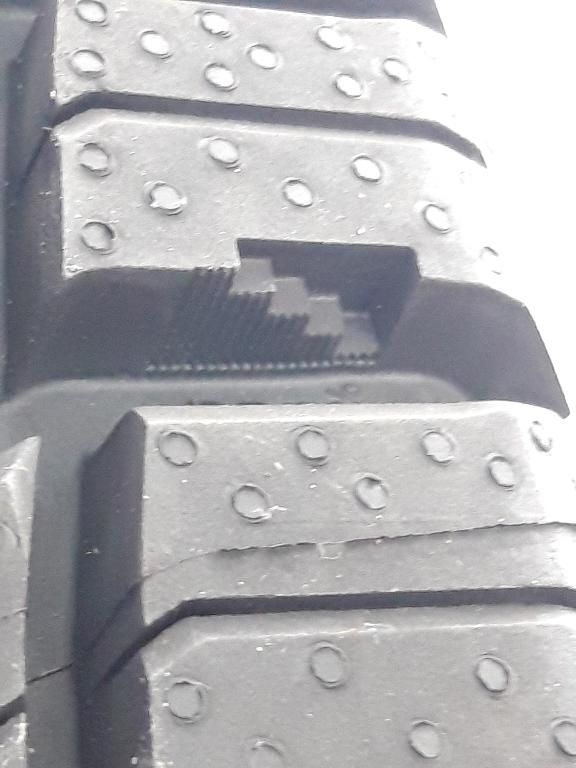temoin:100: (140, 227, 430, 390)
